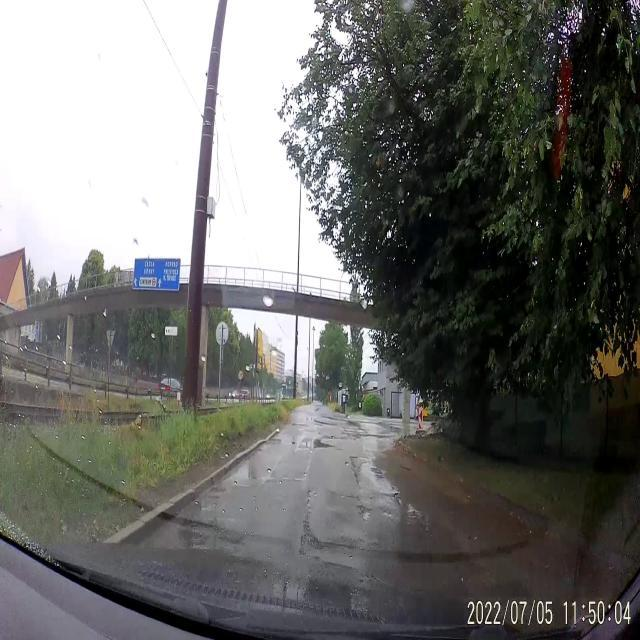Pothole: (298, 430, 340, 460)
